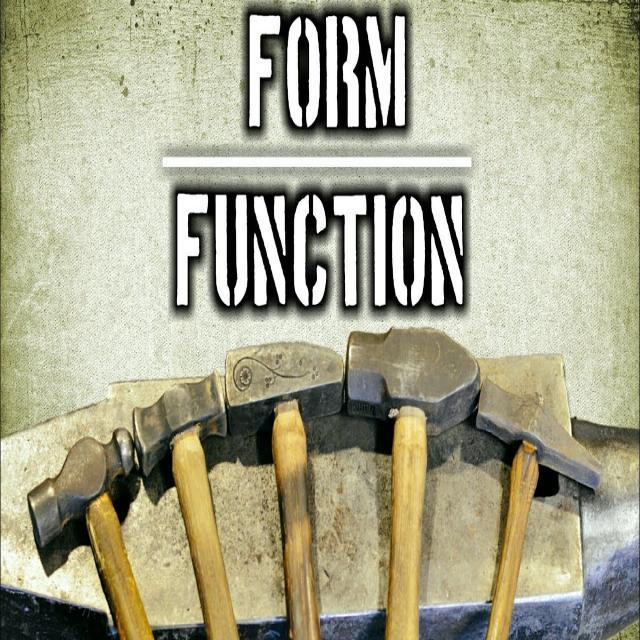hammer: (339, 299, 480, 640), (220, 335, 352, 640), (472, 370, 604, 640), (128, 362, 239, 640), (22, 410, 154, 640)
